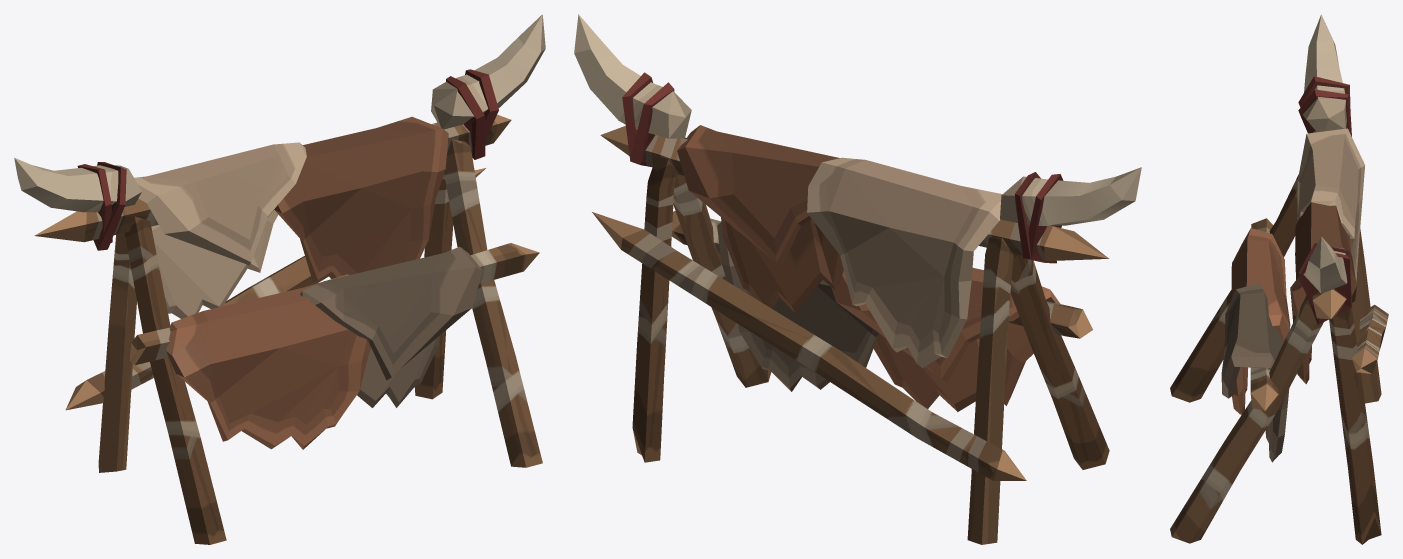
The model's file is bog_hide_rack.gltf.
3 views of the same model, side by side, from view 1: azimuth 30°, elevation 25°; view 2: azimuth 150°, elevation 25°; view 3: azimuth 270°, elevation 25° (orthographic). The views are drawn at different scales.
Parts seen in each view (by area): view 1: bog_hide_rack; view 2: bog_hide_rack; view 3: bog_hide_rack.
Part boxes in pixels (left/top/right/bottom): bog_hide_rack: left=14, top=14, right=545, bottom=544; bog_hide_rack: left=574, top=14, right=1141, bottom=544; bog_hide_rack: left=1170, top=14, right=1388, bottom=544.
Bounding box in the file's own units: 2.66 × 1.8 × 1.04.
Materials: 1 (1 with a texture image).
